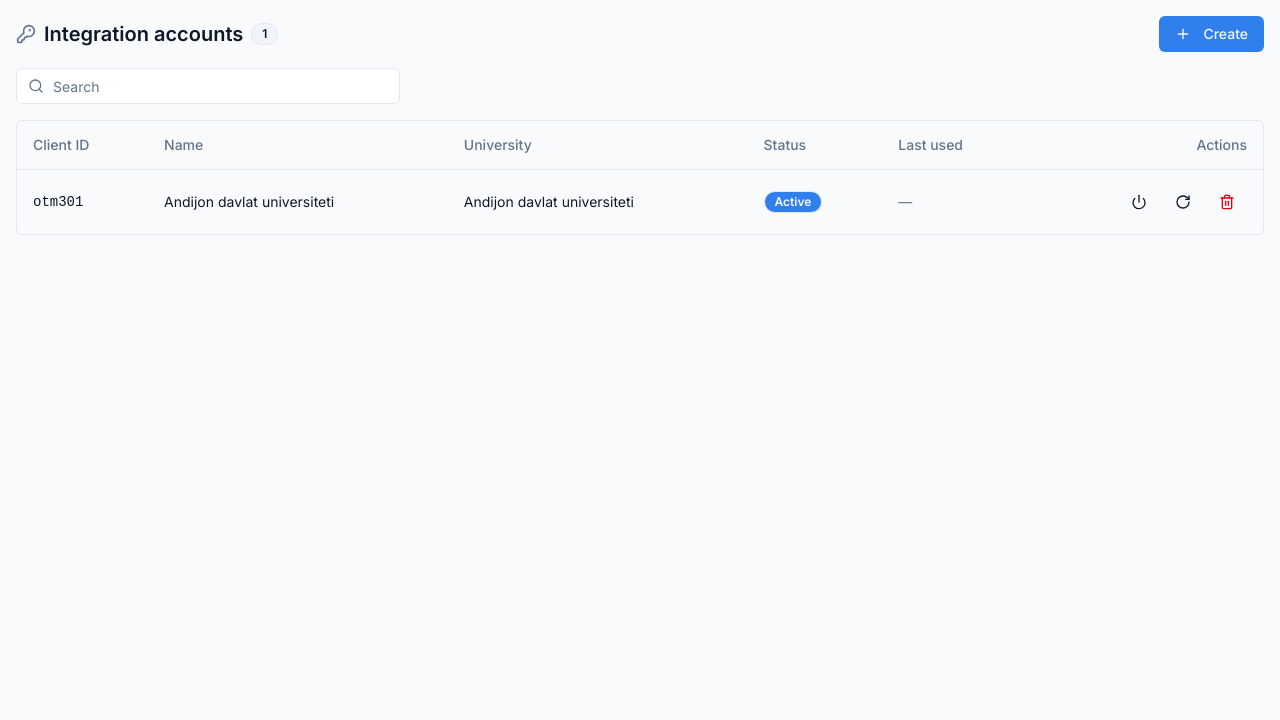
Test case: OAuthClientsPage — sir rotatsiyasi › rotatsiya tugmasi dialogni ochadi
This screenshot has width=1280, height=720.
Click the button titled "Rotate secret": click(1183, 202) [1163,186,1203,218]
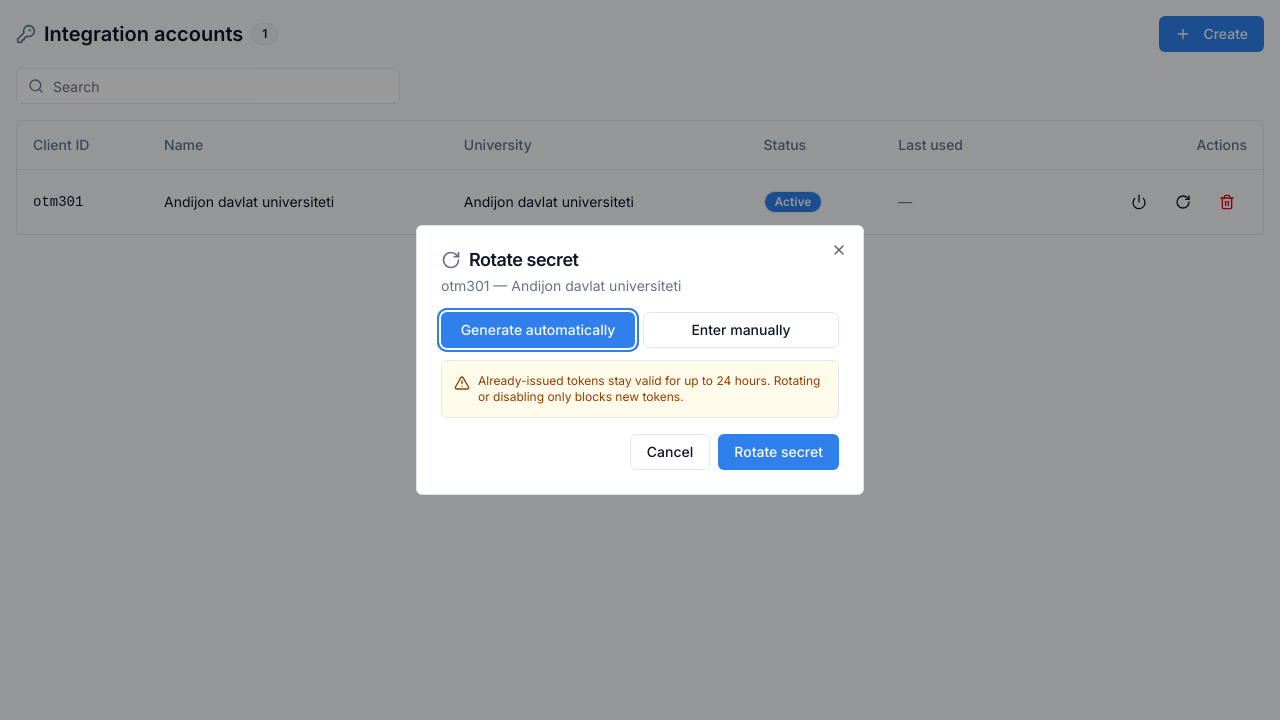
Now the button "Generate automatically" is shown, box [441,312,635,348]
Now the button "Enter manually" is shown, box [643,312,839,348]
Now the text "Already-issued tokens stay valid for up to 24 hours. Rotating or disabling only blocks new tokens." is shown, box [478,373,820,404]
